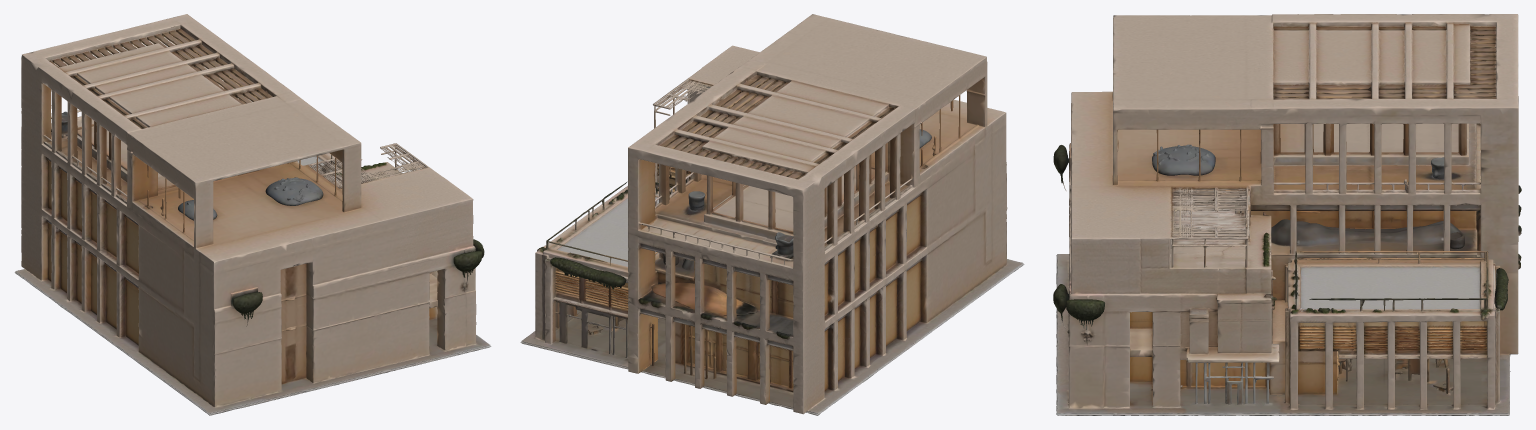
Rendered from shopblk1.glb.
3 renders of one model, left to right at view 1: azimuth 30°, elevation 25°; view 2: azimuth 150°, elevation 25°; view 3: azimuth 270°, elevation 25°, orthographic. The views are drawn at different scales.
Parts seen in each view (by area): view 1: tripo_node_f659cf5f-adca-4809-aeab-73c3730deb1c; view 2: tripo_node_f659cf5f-adca-4809-aeab-73c3730deb1c; view 3: tripo_node_f659cf5f-adca-4809-aeab-73c3730deb1c.
Boxes of the visible parts, x1=… form: tripo_node_f659cf5f-adca-4809-aeab-73c3730deb1c: x1=14, y1=14, x2=491, y2=415; tripo_node_f659cf5f-adca-4809-aeab-73c3730deb1c: x1=520, y1=14, x2=1024, y2=415; tripo_node_f659cf5f-adca-4809-aeab-73c3730deb1c: x1=1053, y1=14, x2=1521, y2=415.
Bounding box in the file's own units: 17.1 × 12 × 20.49.
Materials: 1 (1 with a texture image).
